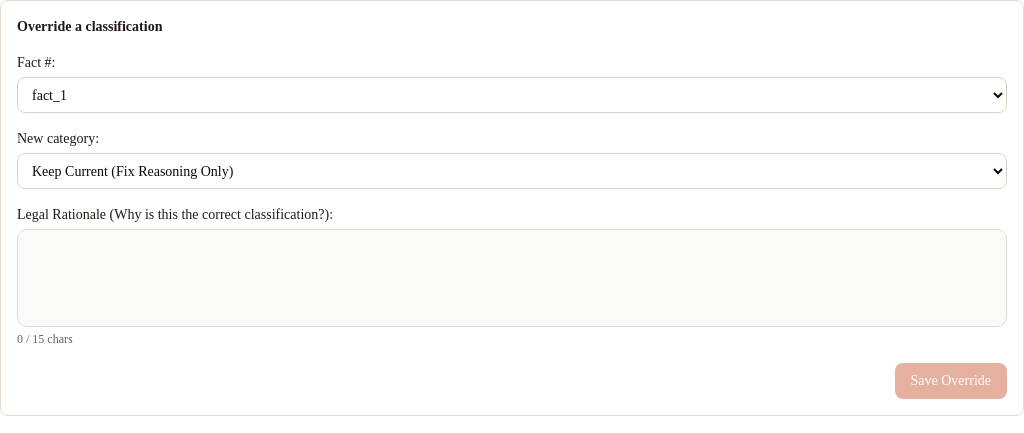
L2OverrideForm › disables Save until reason is at least 15 chars
Check: the button "Save Override" is disabled, box [894,363,1007,399]
Type "long enough reason" into the text box labelled "Legal Rationale (Why is this the correct classification?):" at (512, 278), box [17,229,1007,327]
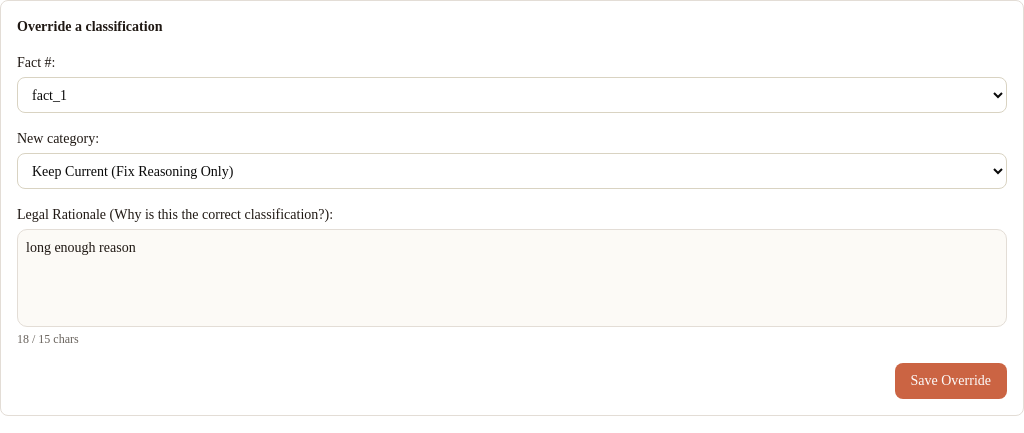
Check: the button "Save Override" is enabled, box [894,363,1007,399]
